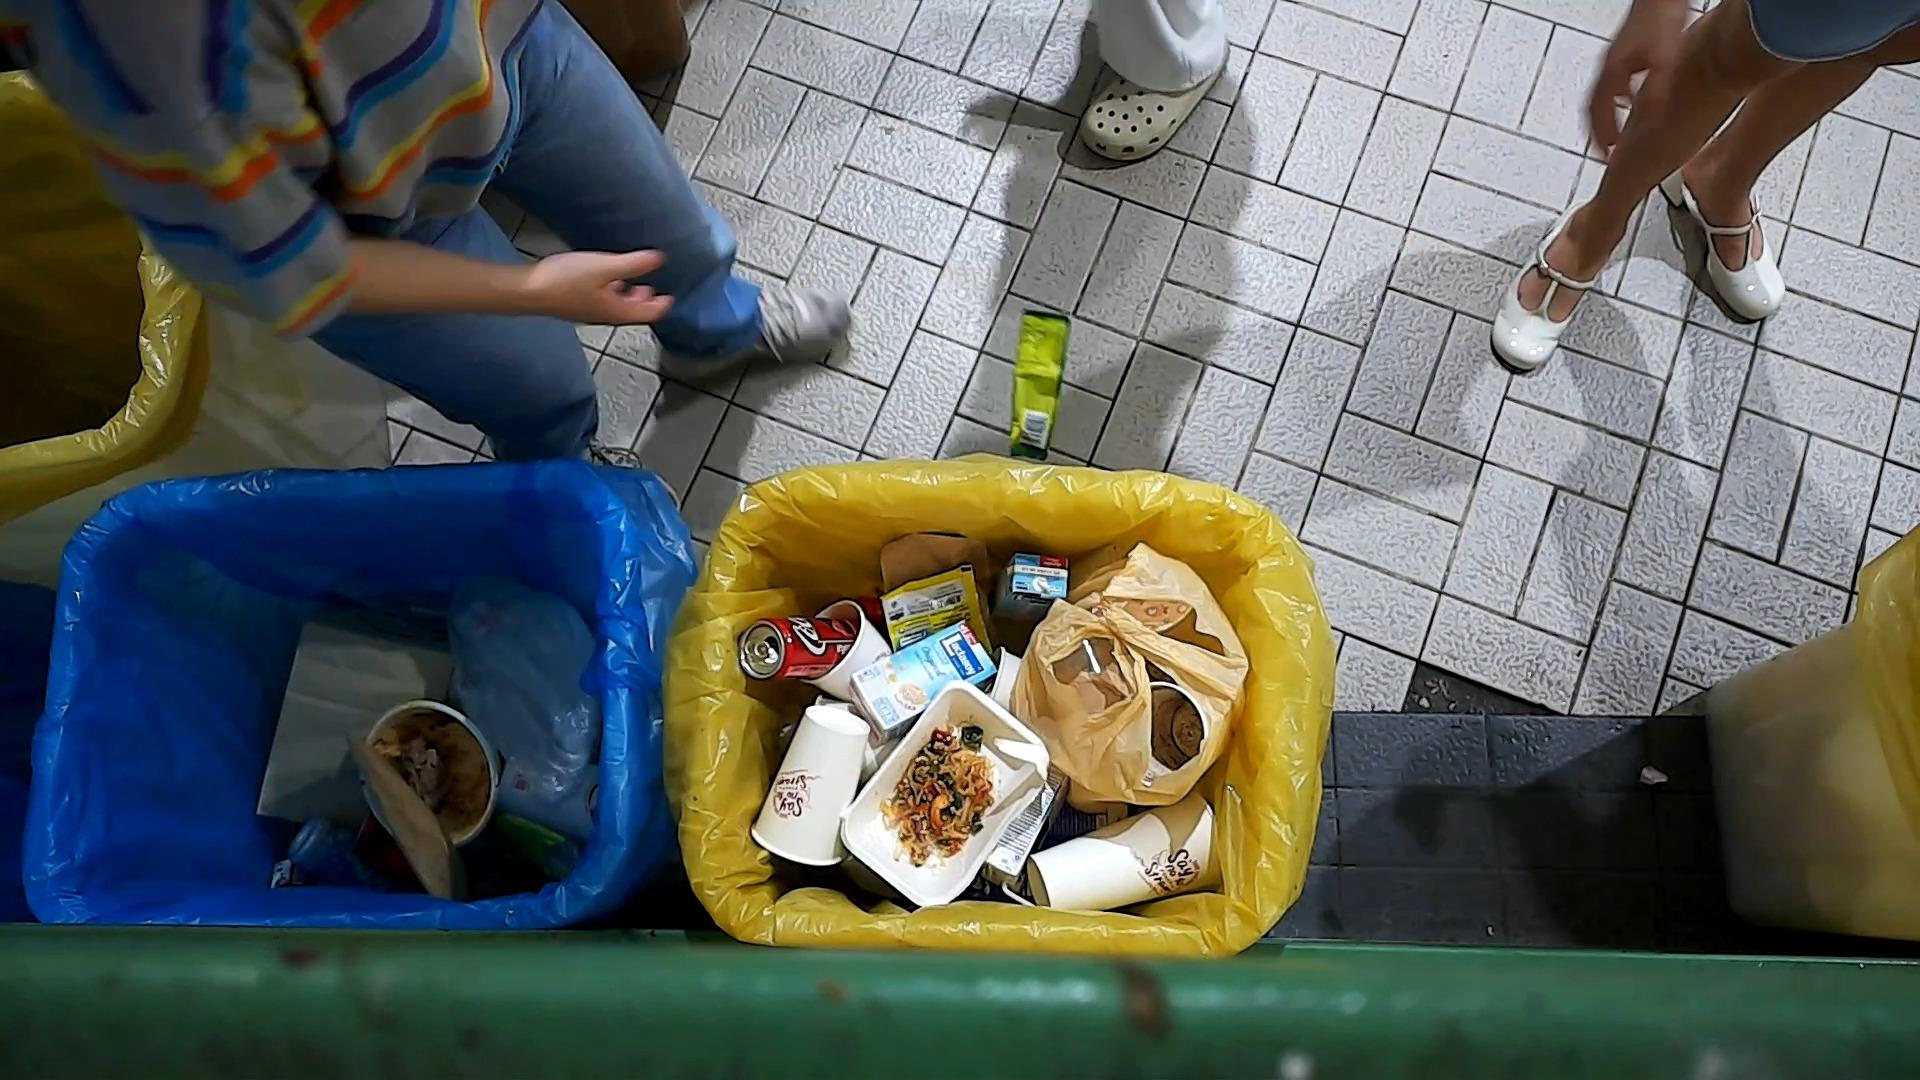can: (285, 812, 404, 895), (736, 612, 858, 683), (487, 808, 585, 884)
dirty food container: (835, 674, 1055, 910), (356, 696, 504, 855)
filled plastic bag: (1006, 541, 1255, 816)
milk carton: (843, 616, 1002, 749), (982, 761, 1073, 907), (993, 551, 1068, 630)
paper bag: (249, 617, 458, 847), (338, 727, 473, 905)
plastic bag: (442, 562, 601, 807)
snack packaging: (876, 558, 1001, 669), (1000, 303, 1076, 465)
zero waste cup: (1023, 787, 1226, 918), (745, 700, 874, 866), (492, 749, 604, 839)
